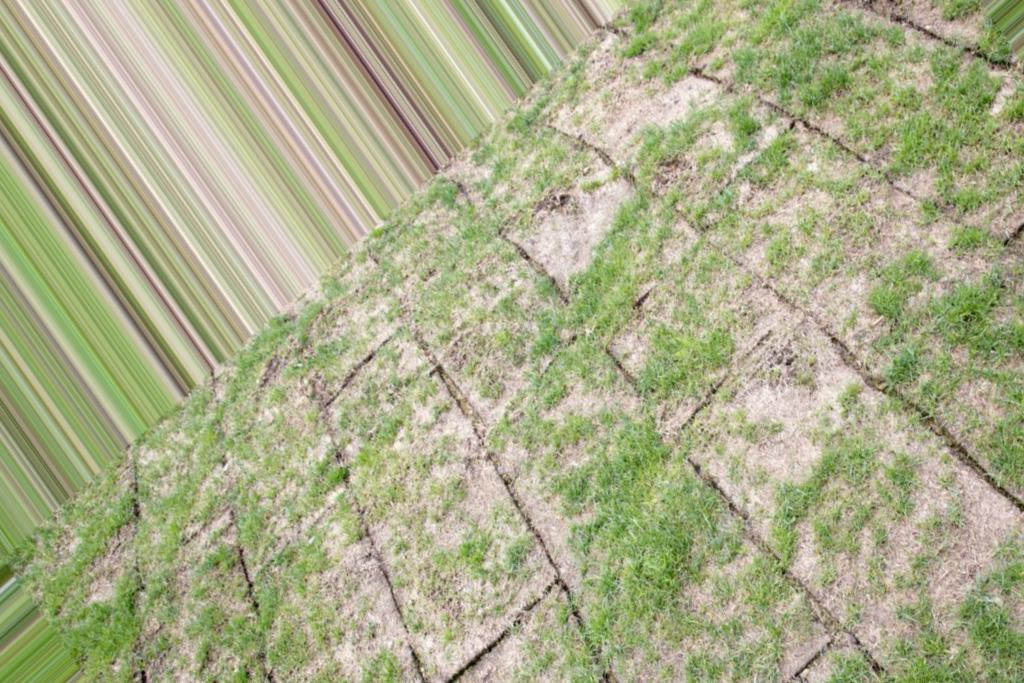patch: (497, 224, 999, 585), (606, 50, 994, 232), (332, 392, 526, 606)
